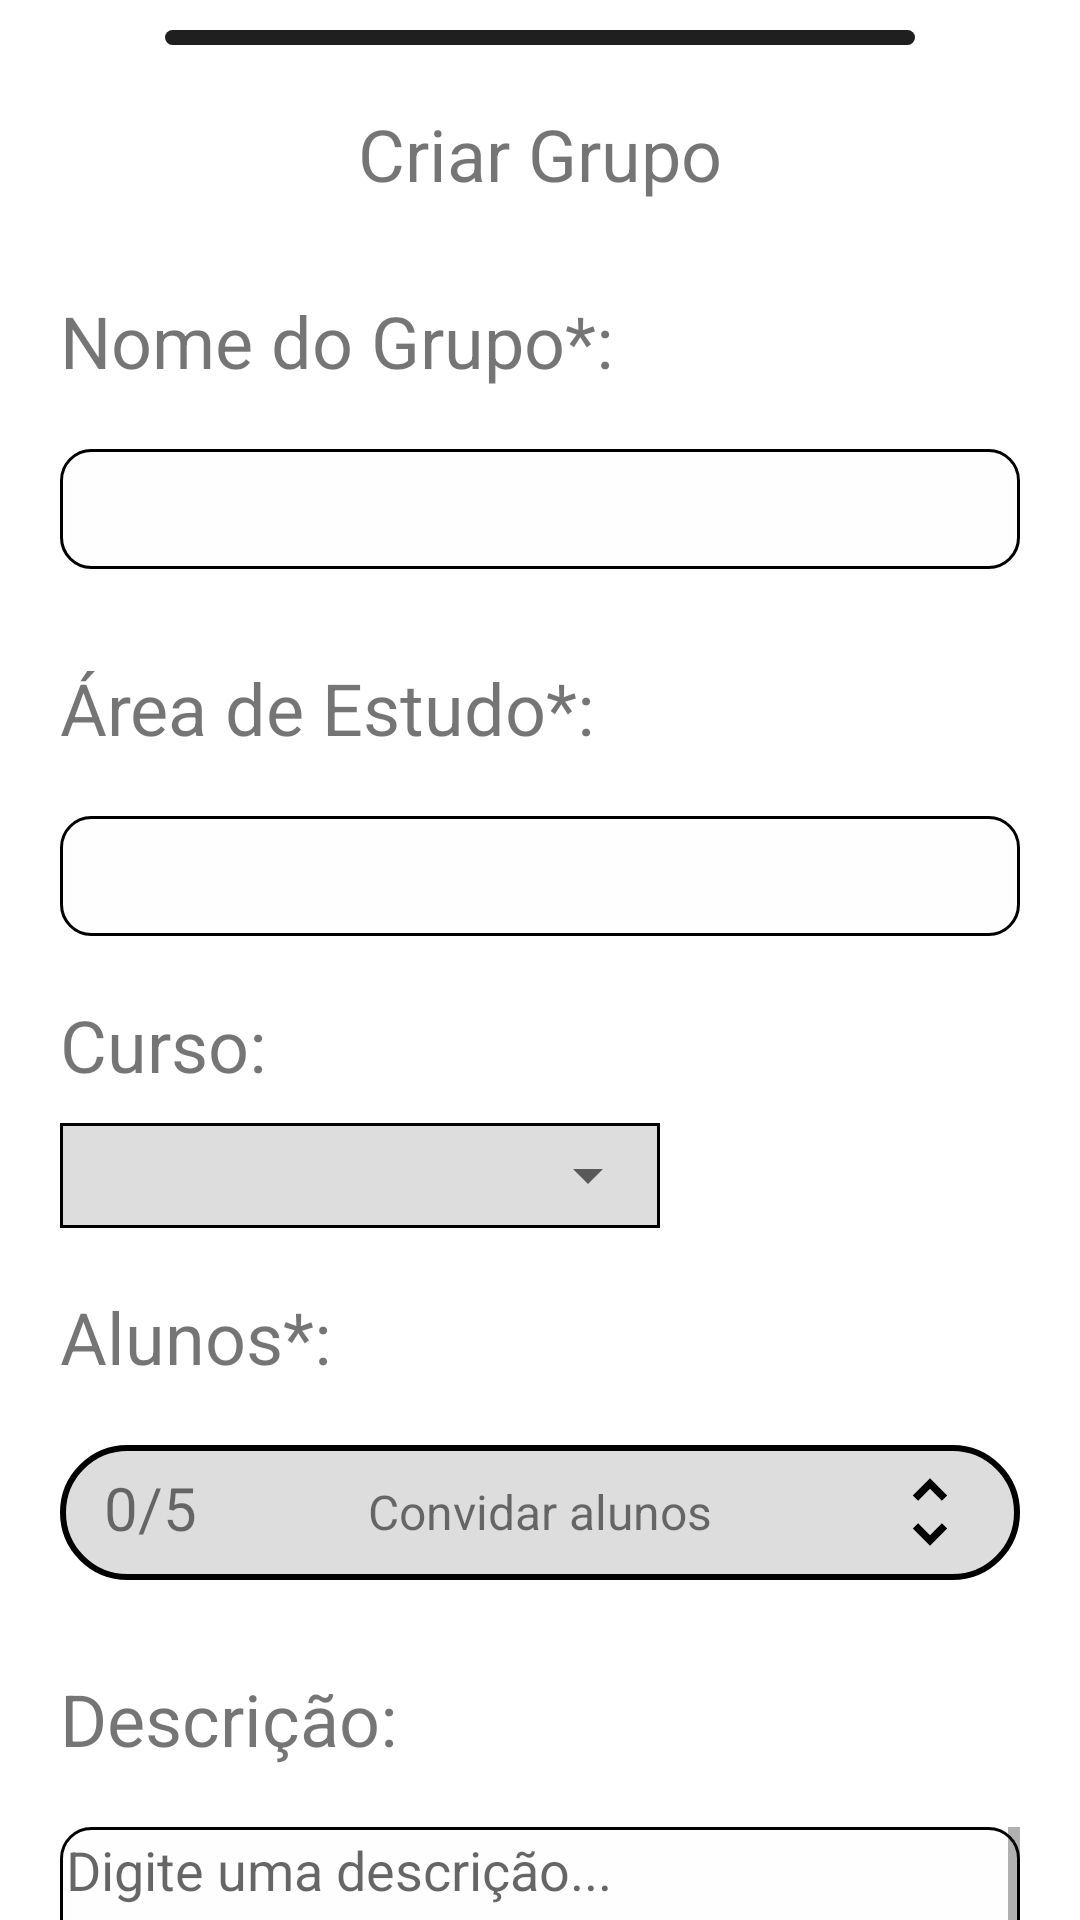

Where to tap for icons on this 1080px×1920px app screen, as (x,y):
unfold: (930,1512)
